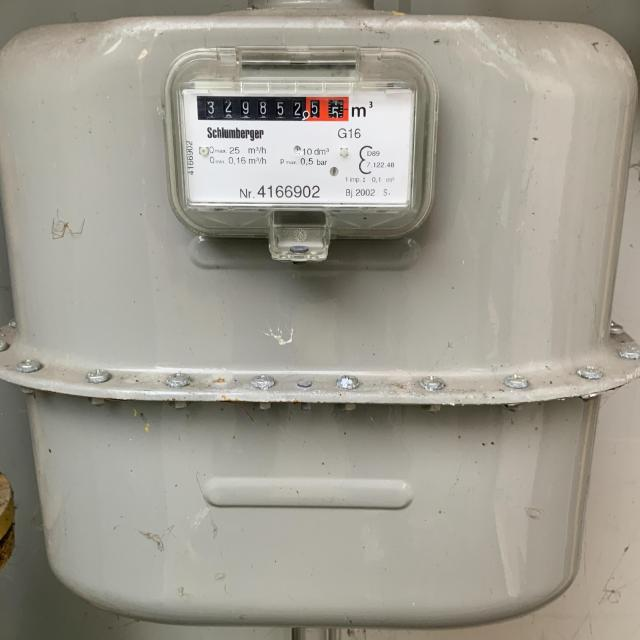gaz_meter: (182, 89, 414, 210)
indication: (199, 97, 348, 121)
